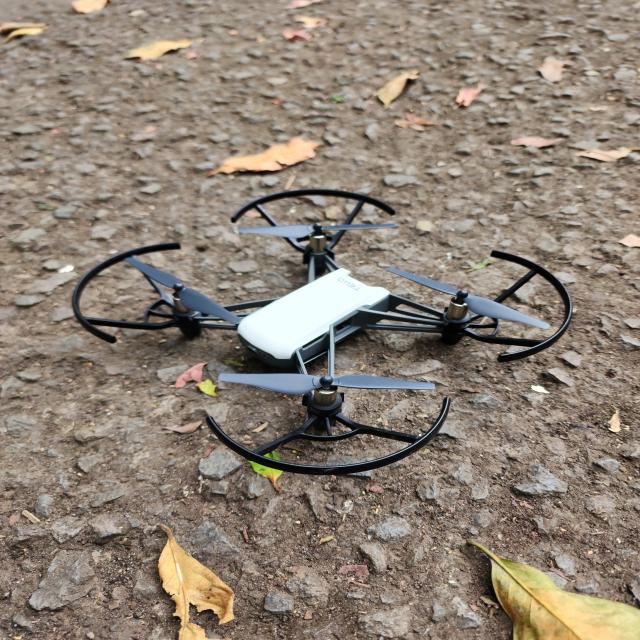drone: (63, 184, 579, 483)
